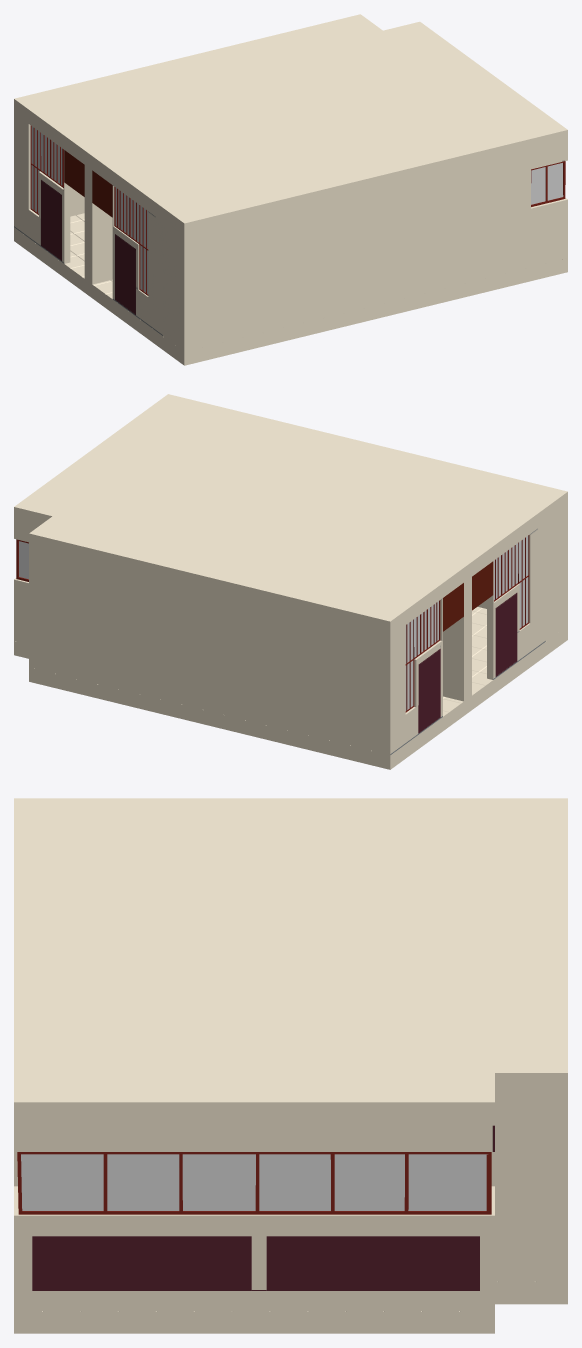
The model's file is salon 5to 1.fbx.
3 views of the same model, one above another, from view 1: azimuth 30°, elevation 25°; view 2: azimuth 150°, elevation 25°; view 3: azimuth 270°, elevation 25° (orthographic). The views are drawn at different scales.
Visible parts, largest first — view 1: Cube.013, Cube.024, Piso, Cube.012, Cube.003, Cube.007, Cube.020, VentanFront301.001, VentanFront301, Ventana, RejaFront2, RejaFron1 (+3 smaller); view 2: Cube.013, Cube, Piso, Cube.012, Cube.003, Cube.007, VentanFront301, VentanFront301.001, RejaFron1, RejaFront2, Cube.021, Cube.011 (+3 smaller); view 3: Cube.013, Cube.006, Ventana, Piso, Cube.004, RejaBack, Cube.
Part boxes in pixels (x1=…): Cube.013: x1=14, y1=14, x2=567, y2=237; Cube.024: x1=181, y1=153, x2=530, y2=351; Piso: x1=14, y1=213, x2=567, y2=365; Cube.012: x1=112, y1=185, x2=180, y2=348; Cube.003: x1=14, y1=113, x2=70, y2=263; Cube.007: x1=84, y1=165, x2=112, y2=284; Cube.020: x1=531, y1=145, x2=561, y2=267; VentanFront301.001: x1=115, y1=188, x2=148, y2=294; VentanFront301: x1=31, y1=126, x2=62, y2=213; Ventana: x1=531, y1=163, x2=563, y2=204; RejaFront2: x1=114, y1=186, x2=148, y2=295; RejaFron1: x1=30, y1=125, x2=63, y2=214; Cube.013: x1=14, y1=394, x2=567, y2=636; Cube: x1=29, y1=548, x2=384, y2=753; Piso: x1=14, y1=607, x2=567, y2=769; Cube.012: x1=487, y1=509, x2=564, y2=679; Cube.003: x1=384, y1=598, x2=442, y2=755; Cube.007: x1=443, y1=577, x2=471, y2=701; VentanFront301: x1=405, y1=601, x2=438, y2=710; VentanFront301.001: x1=494, y1=536, x2=528, y2=628; RejaFron1: x1=405, y1=600, x2=440, y2=712; RejaFront2: x1=494, y1=535, x2=529, y2=629; Cube.021: x1=20, y1=523, x2=36, y2=644; Cube.011: x1=472, y1=567, x2=493, y2=610; Cube.013: x1=14, y1=798, x2=567, y2=1125; Cube.006: x1=14, y1=1125, x2=494, y2=1310; Ventana: x1=21, y1=1154, x2=487, y2=1210; Piso: x1=14, y1=1281, x2=567, y2=1333; Cube.004: x1=491, y1=1096, x2=556, y2=1281; RejaBack: x1=17, y1=1152, x2=491, y2=1214; Cube: x1=557, y1=1096, x2=567, y2=1281.
Size of the model in its own units: 985 by 349 by 758.
7 materials, 7 textured.
